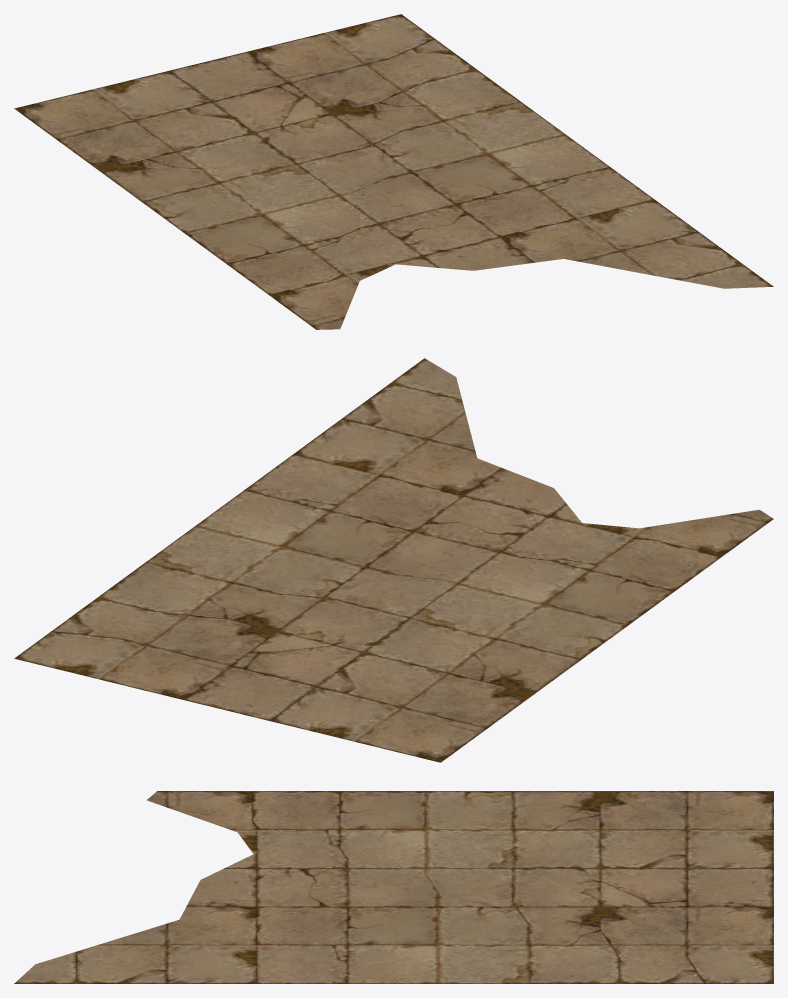
File: Ground05_Terrain_LostTemple_003.FBX
The picture shows the model from 3 angles, top to bottom: view 1: azimuth 30°, elevation 25°; view 2: azimuth 150°, elevation 25°; view 3: azimuth 270°, elevation 25°; orthographic projection. The views are drawn at different scales.
Visible parts, largest first — view 1: Ground05_Terrain_LostTemple_003; view 2: Ground05_Terrain_LostTemple_003; view 3: Ground05_Terrain_LostTemple_003.
Part boxes in pixels (x1,y1,x2,y2): Ground05_Terrain_LostTemple_003: (14, 14, 773, 329); Ground05_Terrain_LostTemple_003: (14, 358, 773, 762); Ground05_Terrain_LostTemple_003: (14, 791, 773, 983).
Bounding box in the file's own units: 468 × 3.41e-05 × 779.
Materials: 1 (1 with a texture image).
